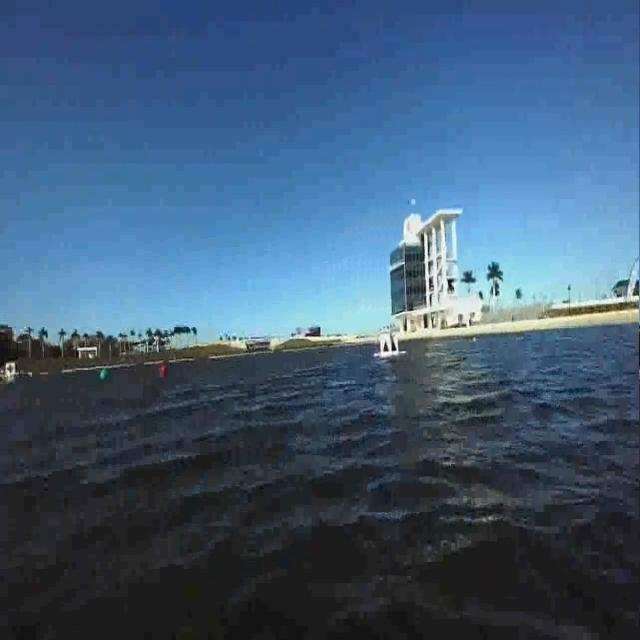green-buoy: (96, 358, 114, 386)
red-buoy: (157, 352, 173, 378)
